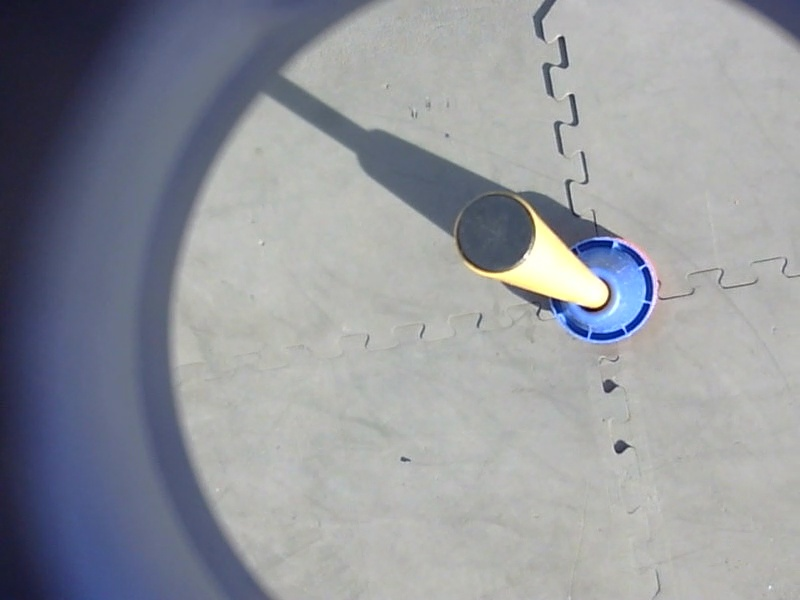tip: (448, 186, 541, 280)
